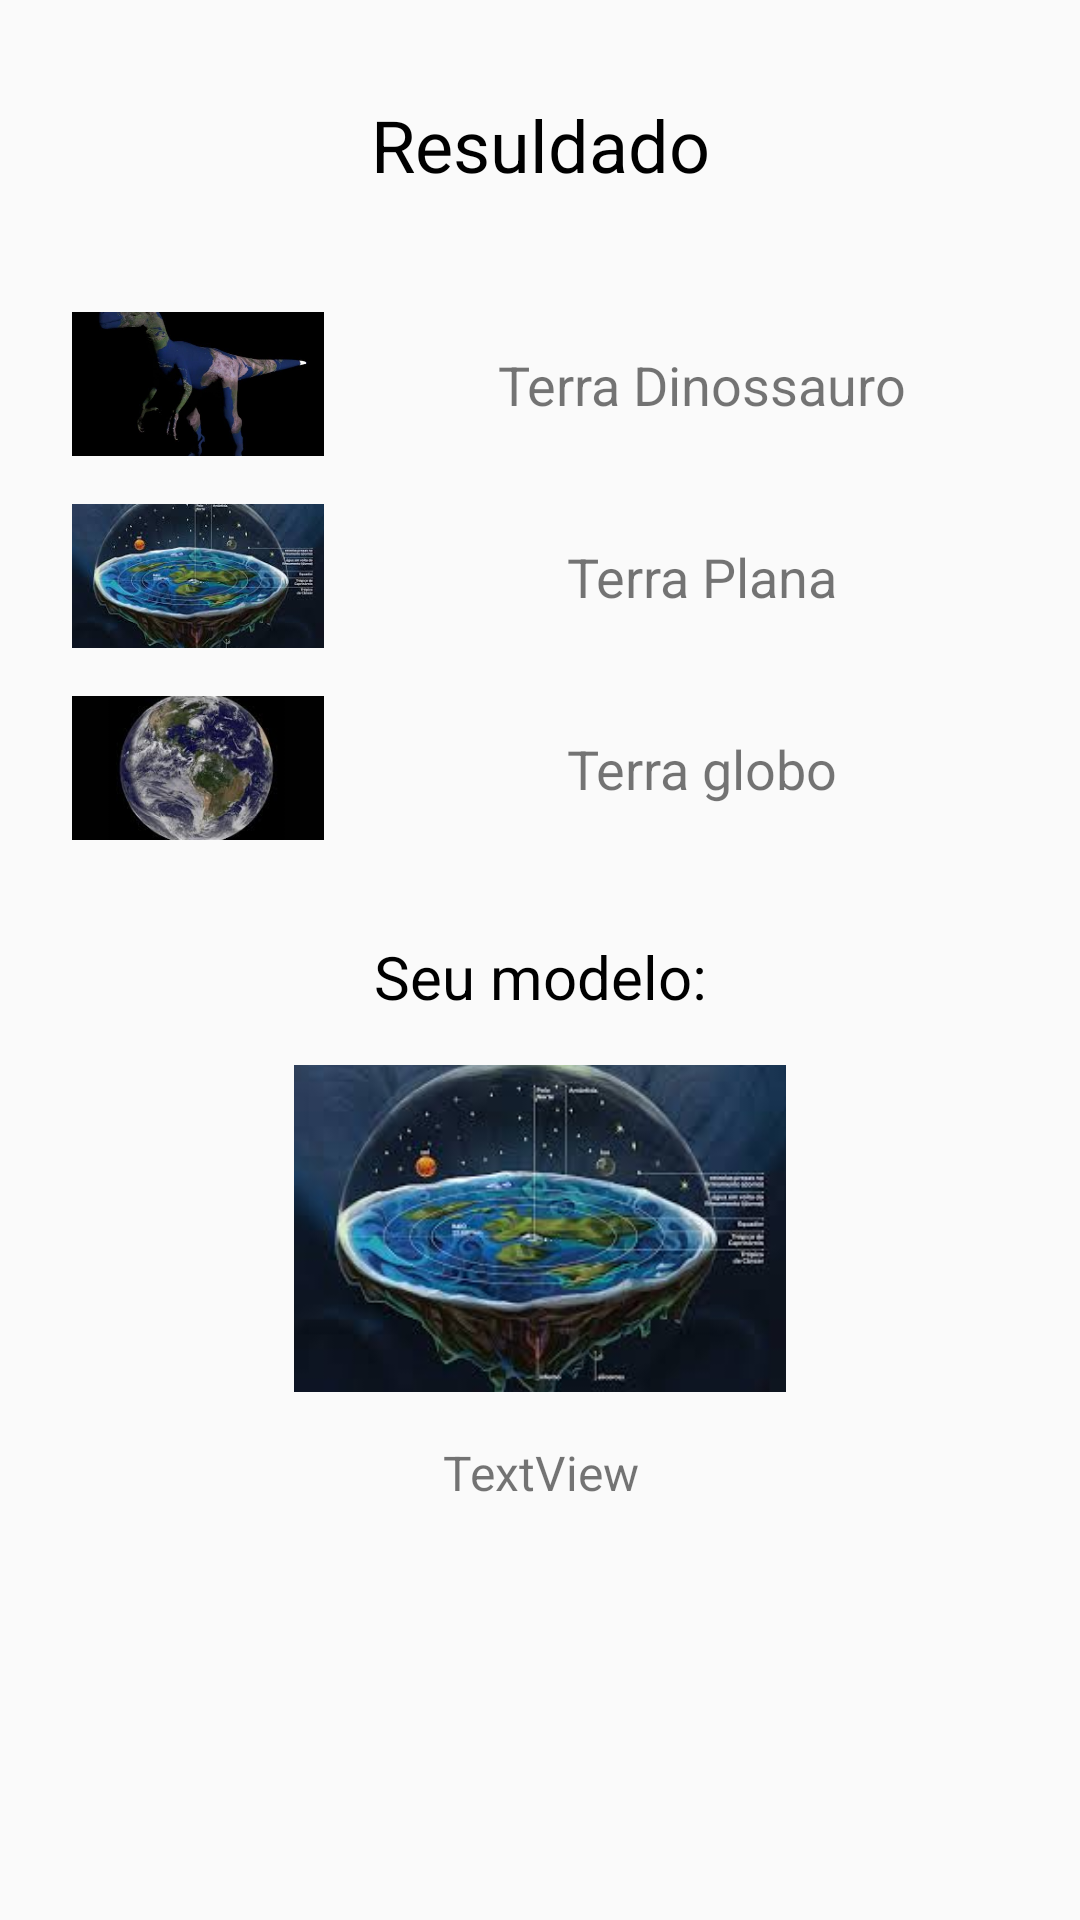

Locate icon controls on the screen. Image size 1080w x 1920h, boxes as box=[x1, y1, x2, y2].
terra dinossauro: box=[72, 312, 324, 456]
terra globo: box=[72, 696, 324, 840]
